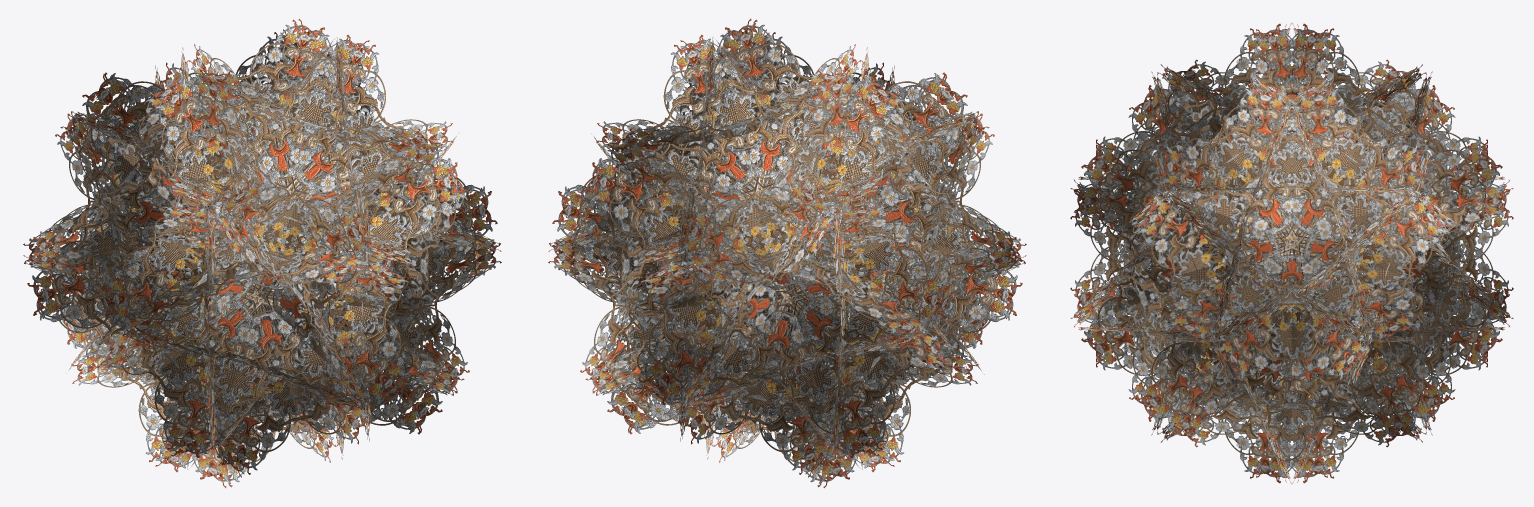
The model's file is TruncatedGreatIcosahedron11.gltf.
The picture shows the model from 3 angles, left to right: view 1: azimuth 30°, elevation 25°; view 2: azimuth 150°, elevation 25°; view 3: azimuth 270°, elevation 25°; orthographic projection. The views are drawn at different scales.
Visible parts, largest first — view 1: TruncatedGreatIcosahedron; view 2: TruncatedGreatIcosahedron; view 3: TruncatedGreatIcosahedron.
Boxes of the visible parts, x1,y1,x2,y2 form: TruncatedGreatIcosahedron: (23, 19, 501, 487); TruncatedGreatIcosahedron: (548, 19, 1026, 487); TruncatedGreatIcosahedron: (1070, 23, 1513, 483).
Size of the model in its own units: 2 by 2 by 2.
Materials: 1 (1 with a texture image).
